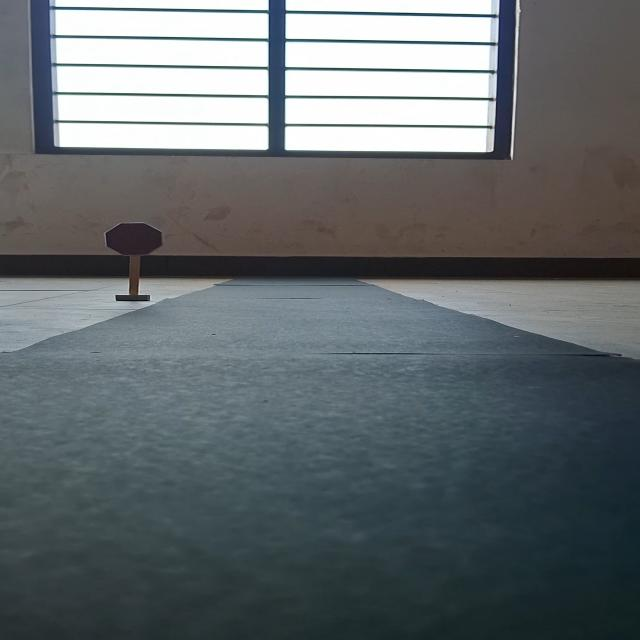Stop: (104, 223, 164, 256)
